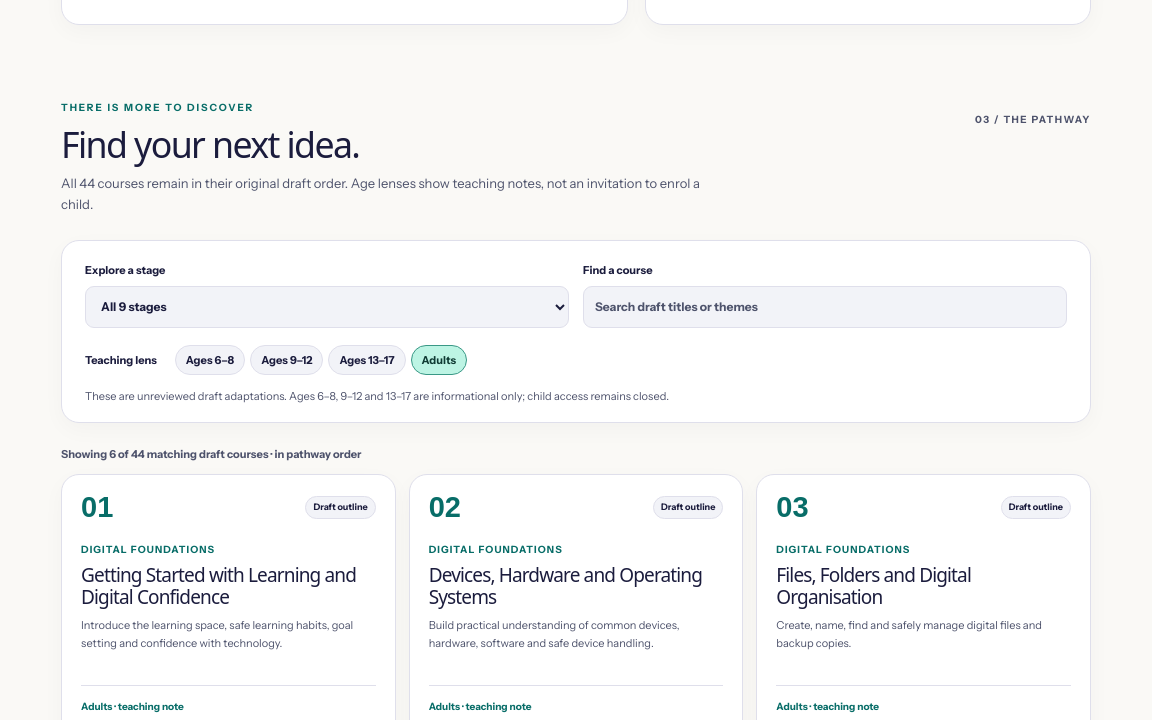
Test: learning loop review versus authorised private mode › shows no invented progress, AI actions, sign-in or minutes in the design review
(page scrolled)
Expected: the text "Showing 6 of 44 matching draft courses · in pathway order" is shown, [61, 447, 361, 461]
Click the button "Ages 9–12" at (287, 360), box [250, 345, 324, 375]
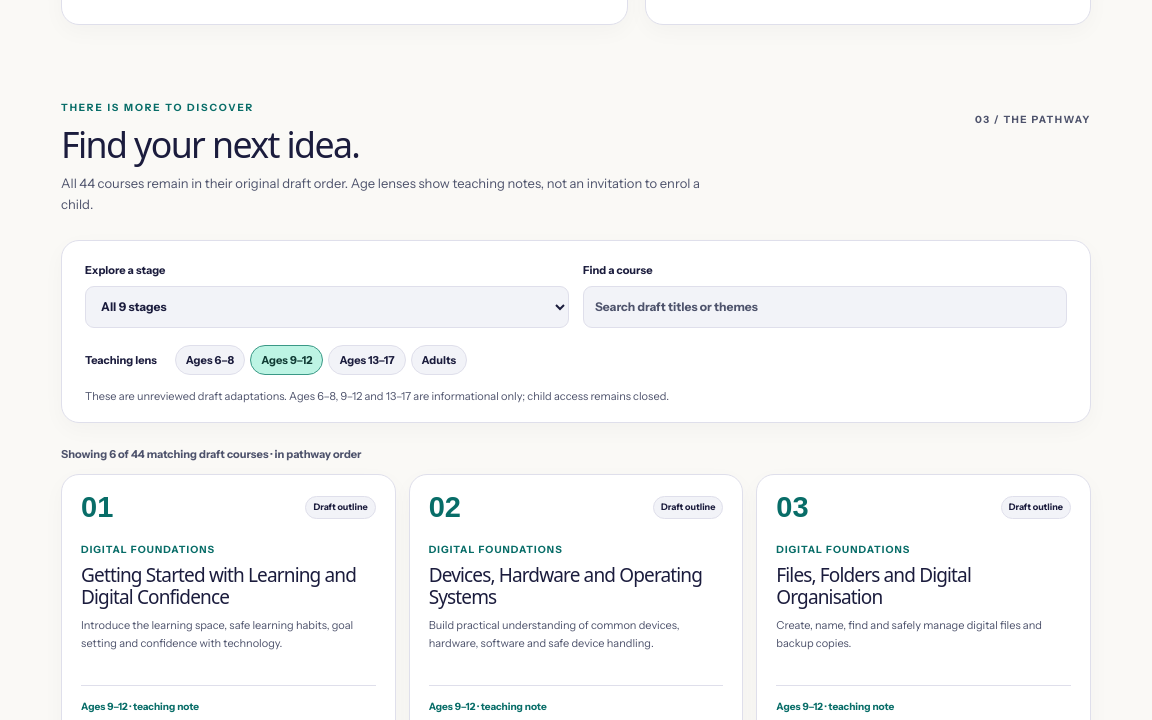
Expected: the button "Ages 9–12" is pressed, [250, 345, 324, 375]
Type "not-a-real-course-name" into the search field labelled "Find a course" at (825, 307), box [583, 286, 1067, 328]
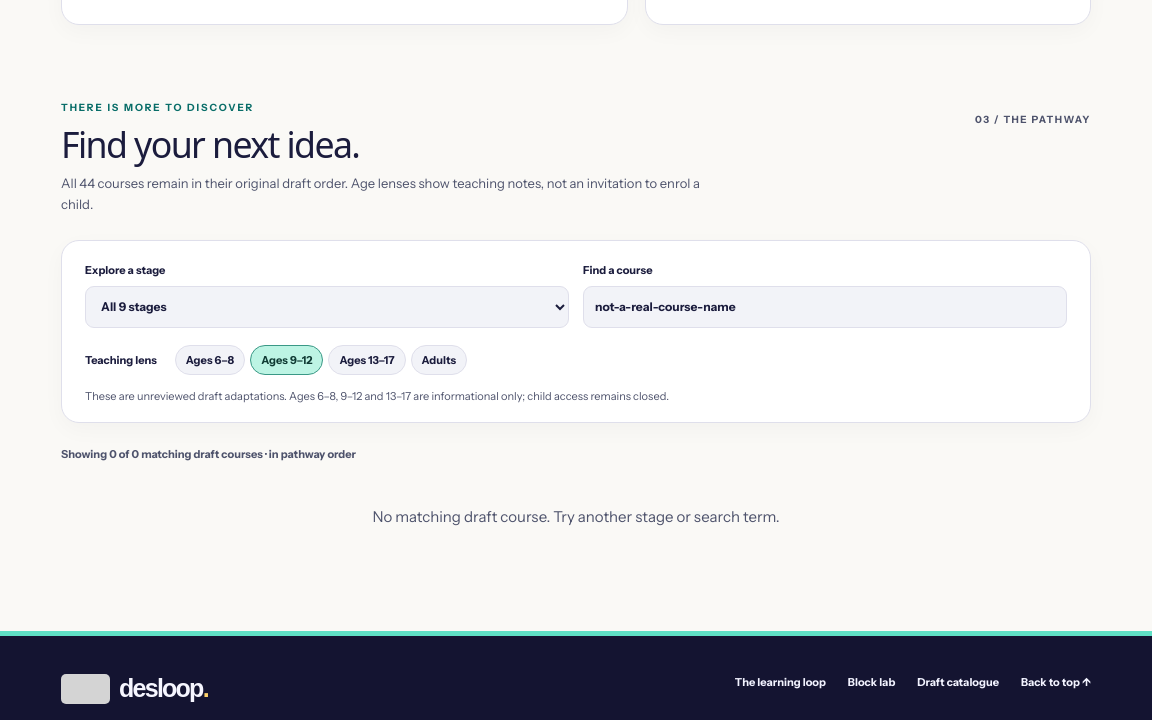
Expected: the text "No matching draft course. Try another stage or search term." is shown, [372, 507, 780, 526]
